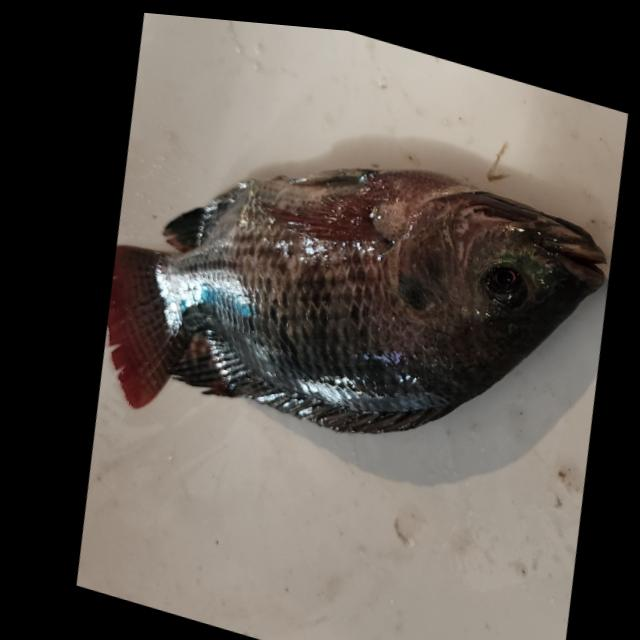Tilapia: (66, 76, 640, 543)
